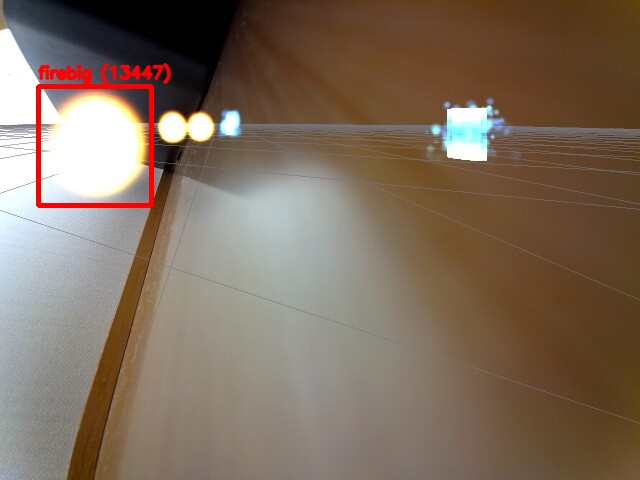firebig: (38, 86, 151, 205)
